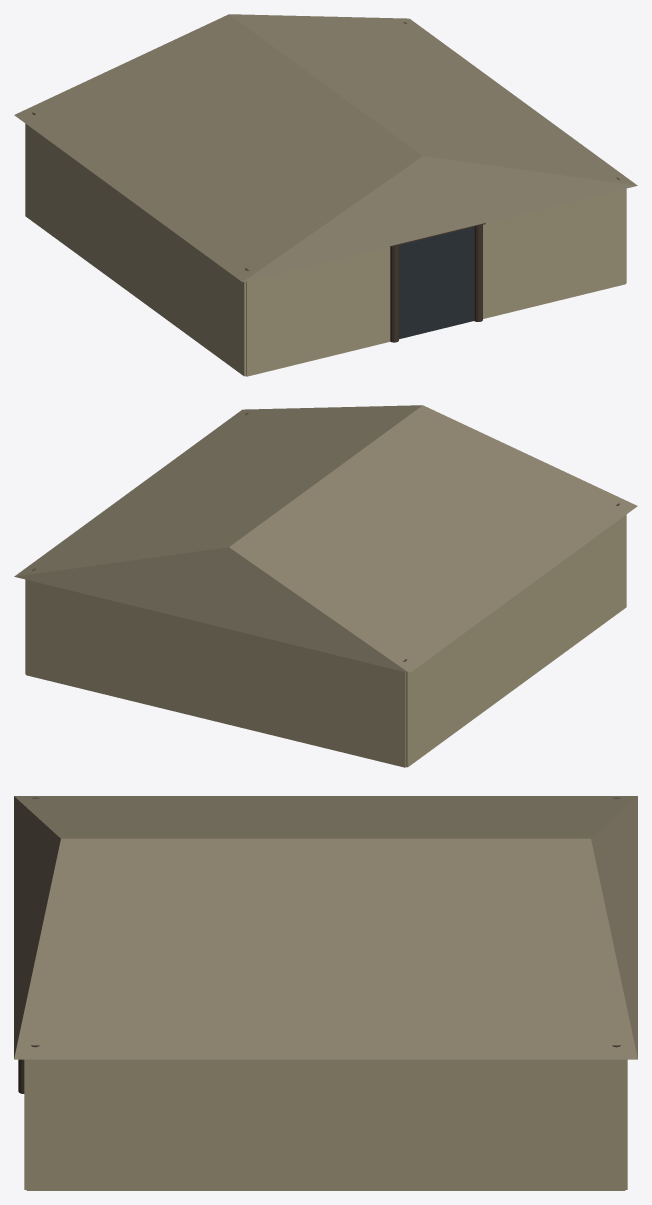
Rendered from main-tent-ritual.obj.
3 views of the same model, one above another, from view 1: azimuth 30°, elevation 25°; view 2: azimuth 150°, elevation 25°; view 3: azimuth 270°, elevation 25° (orthographic). The views are drawn at different scales.
Visible parts, largest first — view 1: MAIN-roof, MAIN-west-wall, MAIN-front--1, MAIN-front-1, MAIN-curtain, main-doorpost--1, main-doorpost-1; view 2: MAIN-roof, MAIN-north-wall, MAIN-west-wall; view 3: MAIN-roof, MAIN-east-wall.
Part boxes in pixels (x1=…): MAIN-roof: x1=14, y1=14, x2=637, y2=282; MAIN-west-wall: x1=25, y1=123, x2=245, y2=376; MAIN-front--1: x1=246, y1=246, x2=390, y2=376; MAIN-front-1: x1=474, y1=188, x2=625, y2=320; MAIN-curtain: x1=399, y1=227, x2=473, y2=339; main-doorpost--1: x1=390, y1=244, x2=398, y2=342; main-doorpost-1: x1=474, y1=224, x2=482, y2=321; MAIN-roof: x1=14, y1=405, x2=637, y2=673; MAIN-north-wall: x1=26, y1=579, x2=405, y2=767; MAIN-west-wall: x1=406, y1=514, x2=626, y2=767; MAIN-roof: x1=14, y1=796, x2=637, y2=1059; MAIN-east-wall: x1=26, y1=1059, x2=625, y2=1190.
Bounding box in the file's own units: 14.6 × 5.8 × 14.6.
